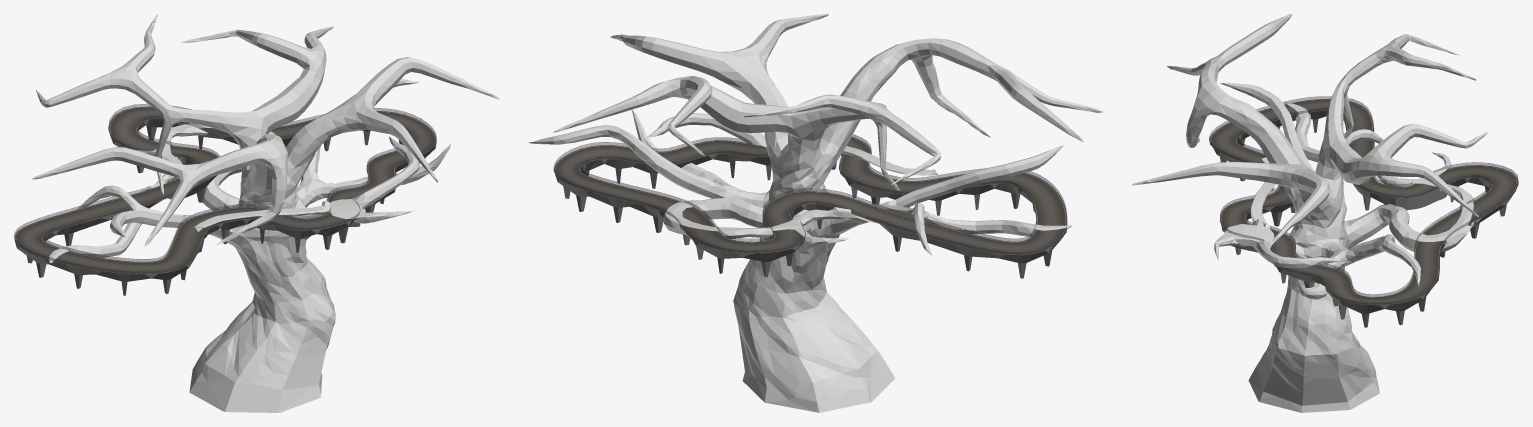
Rendered from testtrack3.glb.
3 renders of one model, left to right at view 1: azimuth 30°, elevation 25°; view 2: azimuth 150°, elevation 25°; view 3: azimuth 270°, elevation 25°, orthographic. The views are drawn at different scales.
Visible parts, largest first — view 1: TreeBark.lp, Road; view 2: TreeBark.lp, Road; view 3: TreeBark.lp, Road.
Part boxes in pixels (x1,y1,x2,y2): TreeBark.lp: [32, 14, 499, 412]; Road: [14, 103, 436, 295]; TreeBark.lp: [528, 14, 1102, 412]; Road: [553, 134, 1067, 278]; TreeBark.lp: [1132, 14, 1487, 412]; Road: [1209, 96, 1518, 327].
Size of what is drawn, in the model's own units: 387 by 257 by 297.
Materials: 2 (2 with a texture image).
